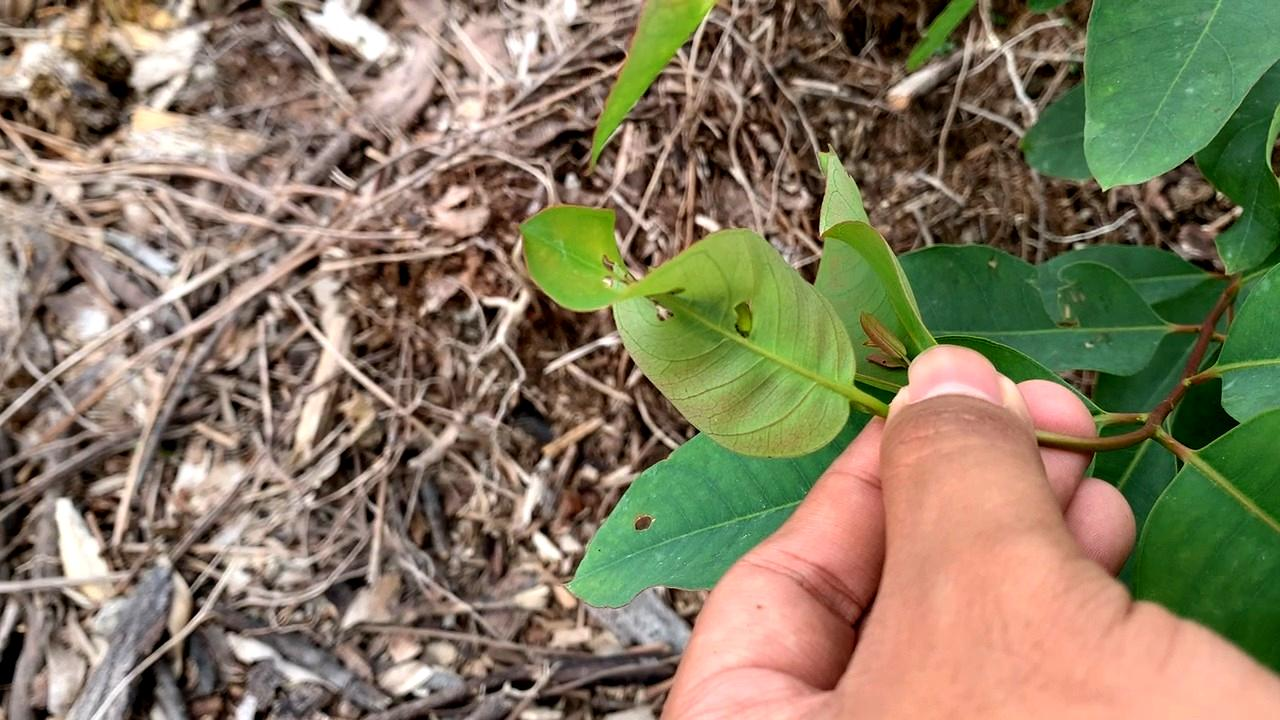Leaf Roller - Leaf: (514, 202, 856, 457)
